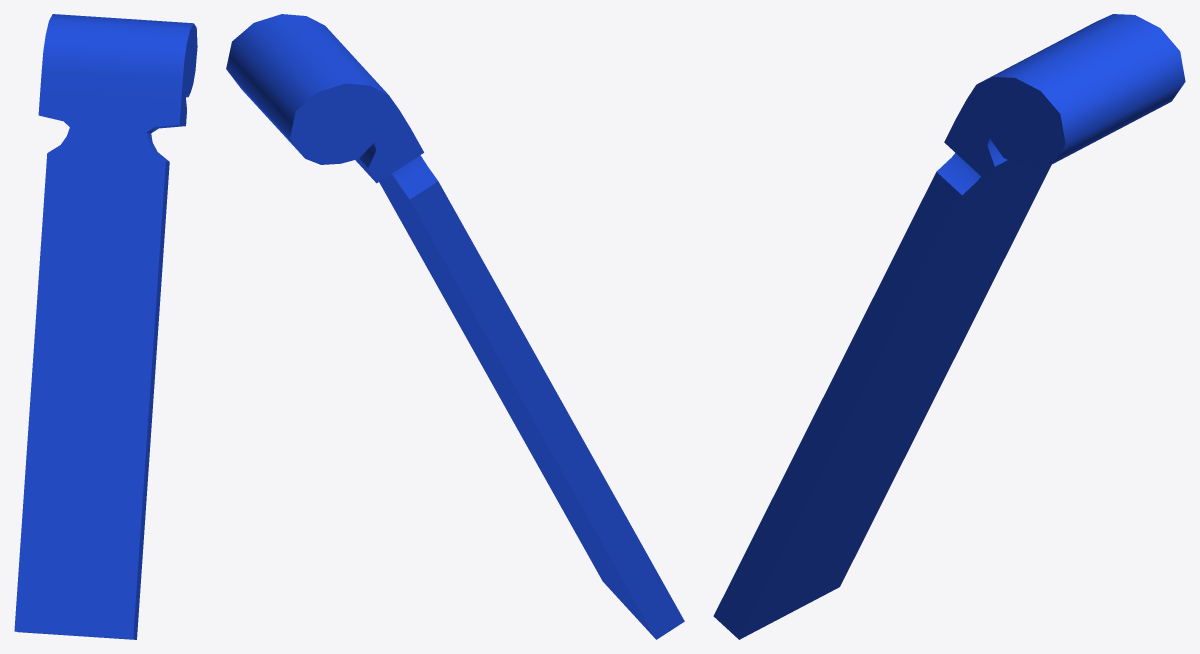
The model's file is Ladle.fbx.
The picture shows the model from 3 angles, left to right: view 1: azimuth 30°, elevation 25°; view 2: azimuth 150°, elevation 25°; view 3: azimuth 270°, elevation 25°; orthographic projection. The views are drawn at different scales.
Parts seen in each view (by area): view 1: Ladle; view 2: Ladle; view 3: Ladle.
Part boxes in pixels (<box>): Ladle: <box>14,14,197,639</box>; Ladle: <box>226,14,684,639</box>; Ladle: <box>713,14,1185,639</box>.
Size of the model in its own units: 42.72 by 73.11 by 47.1.
